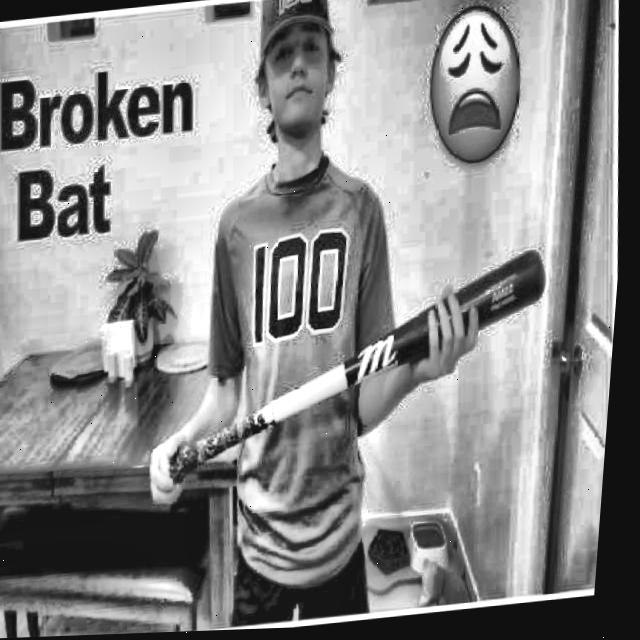tongkat pemukul: (104, 227, 583, 537)
